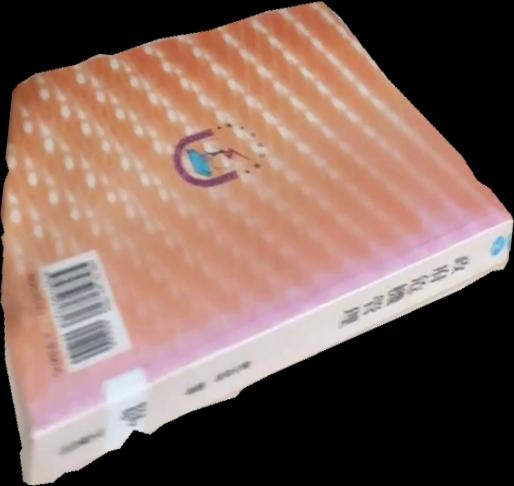flat: (1, 1, 514, 486)
